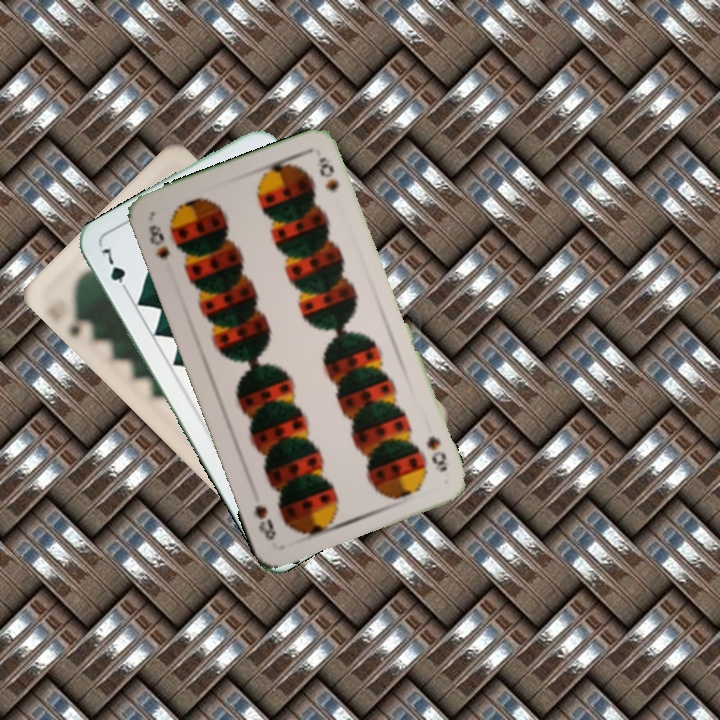G10: (65, 306, 96, 339)
G7: (97, 244, 133, 298)
S8: (422, 432, 452, 475), (145, 221, 173, 262)
